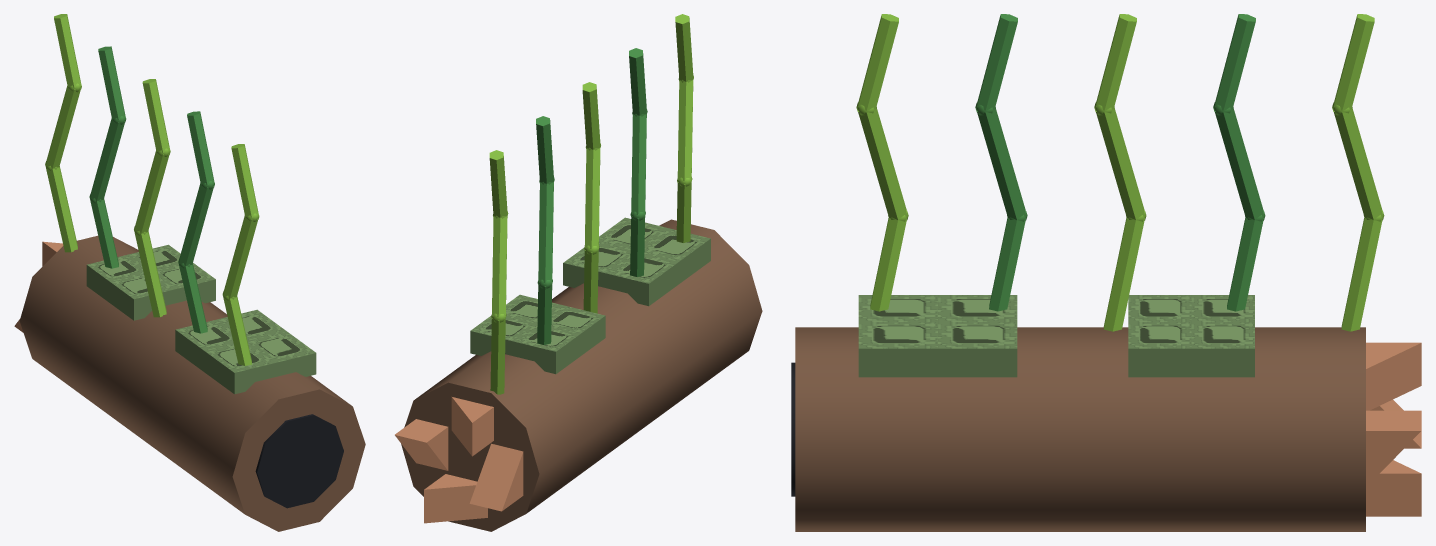
Rendered from SunkenLog.glb.
3 views of the same model, side by side, from view 1: azimuth 30°, elevation 25°; view 2: azimuth 150°, elevation 25°; view 3: azimuth 270°, elevation 25° (orthographic). The views are drawn at different scales.
Parts seen in each view (by area): view 1: SunkenLog; view 2: SunkenLog; view 3: SunkenLog.
Boxes of the visible parts, left/top/right/bottom form: SunkenLog: left=14, top=14, right=365, bottom=531; SunkenLog: left=395, top=14, right=762, bottom=531; SunkenLog: left=791, top=14, right=1421, bottom=531.
Size of the model in its own units: 2.6 by 6.77 by 7.95.
Materials: 1 (1 with a texture image).
